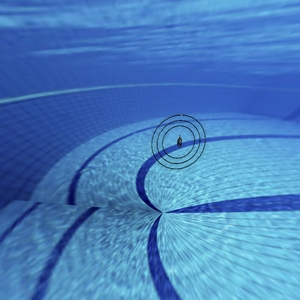circle: (138, 102, 215, 182)
submarine: (171, 132, 186, 149)
